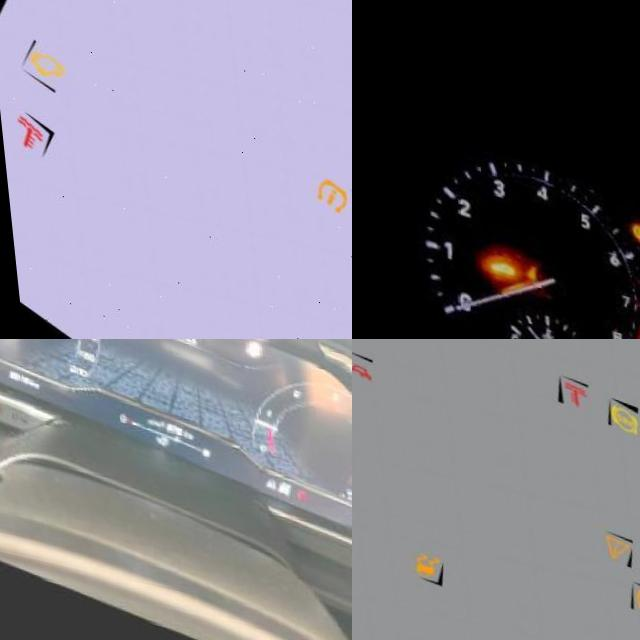Low fuel level: (158, 425, 169, 438)
